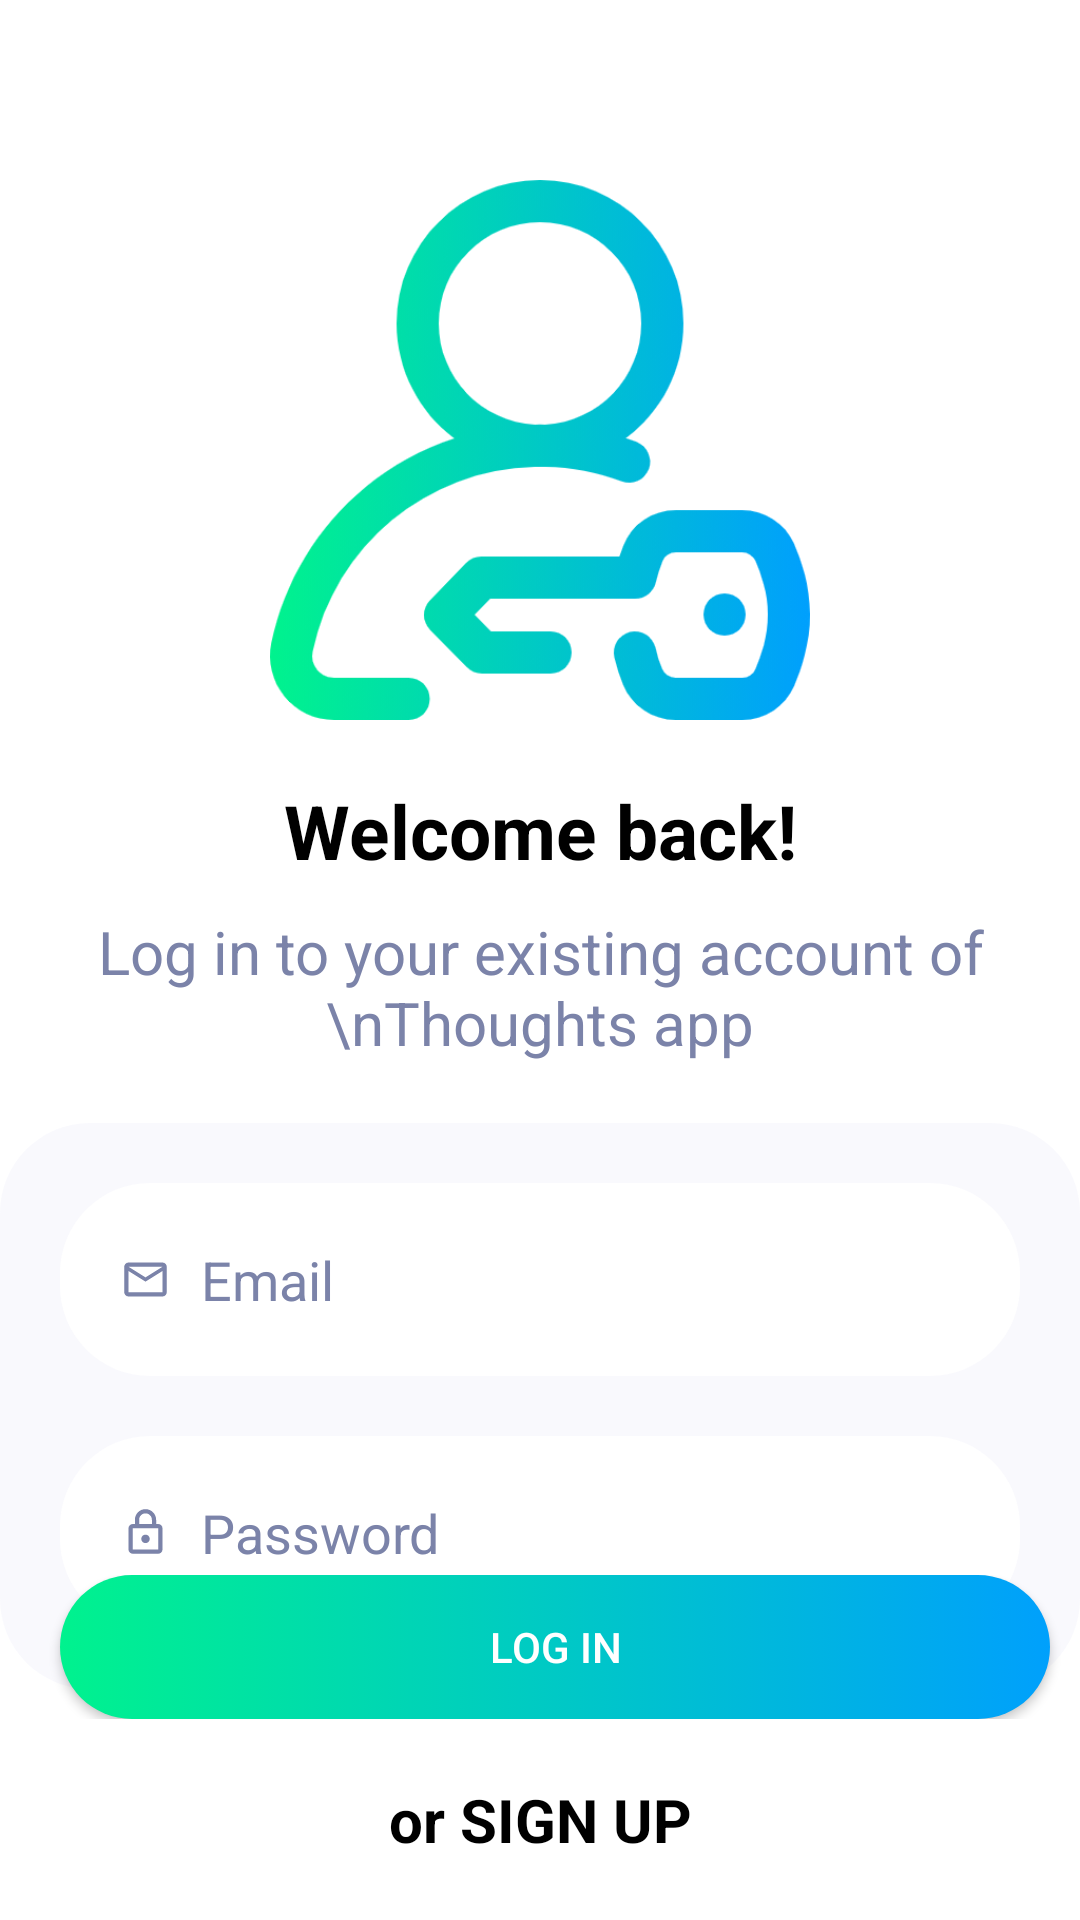

Locate icon controls on the screen. Image size 1080px×1920px, boxes as BBox(x1, y1, x2, y2).
lock: BBox(128, 1509, 163, 1554)
